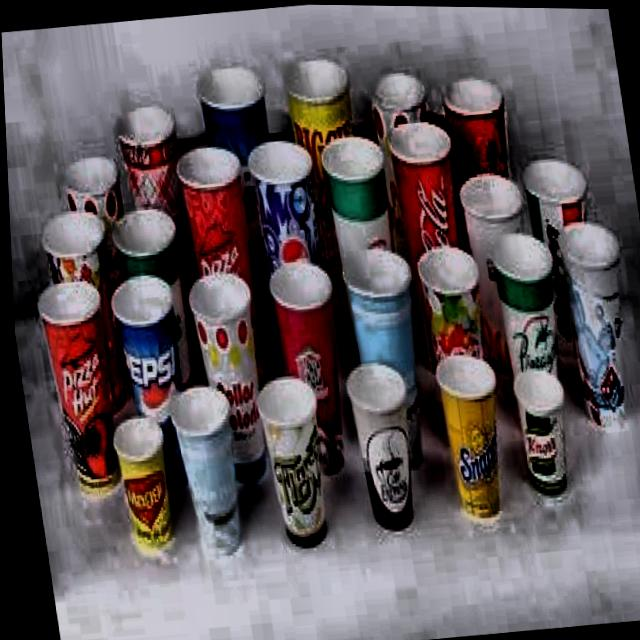Cup: (191, 58, 301, 345), (277, 51, 383, 338), (382, 119, 476, 382), (319, 134, 419, 375), (359, 57, 455, 305), (513, 132, 612, 372), (172, 142, 266, 390), (243, 138, 337, 382), (104, 195, 200, 428), (409, 230, 503, 466), (113, 95, 202, 344), (33, 203, 129, 430), (437, 71, 531, 299), (338, 254, 435, 471), (243, 360, 341, 569), (548, 221, 640, 443), (452, 163, 544, 376), (29, 279, 120, 494), (263, 257, 352, 472), (106, 287, 195, 501), (184, 276, 274, 484), (340, 349, 424, 550), (486, 222, 566, 426), (427, 355, 517, 532), (164, 386, 253, 563), (53, 153, 129, 335), (508, 358, 578, 509), (109, 409, 176, 556)
